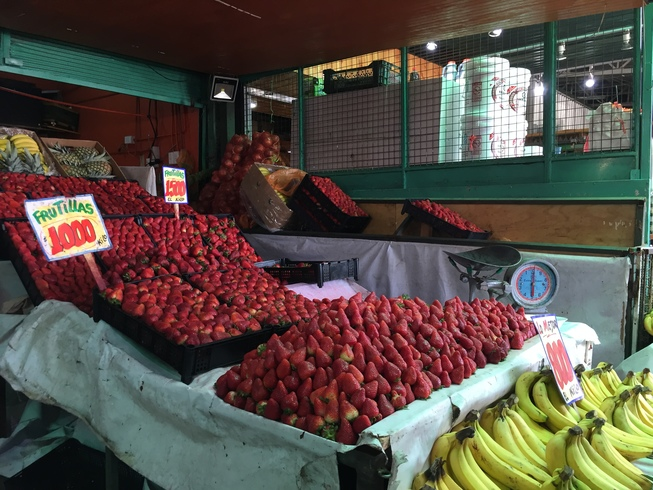precio: (27, 192, 110, 263), (160, 167, 194, 209)
